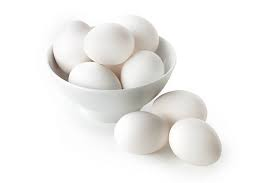eggs: (114, 110, 164, 156), (170, 117, 219, 162), (72, 60, 123, 101), (152, 94, 213, 128), (119, 10, 163, 55), (44, 18, 89, 61), (86, 25, 129, 65), (122, 50, 166, 86)
